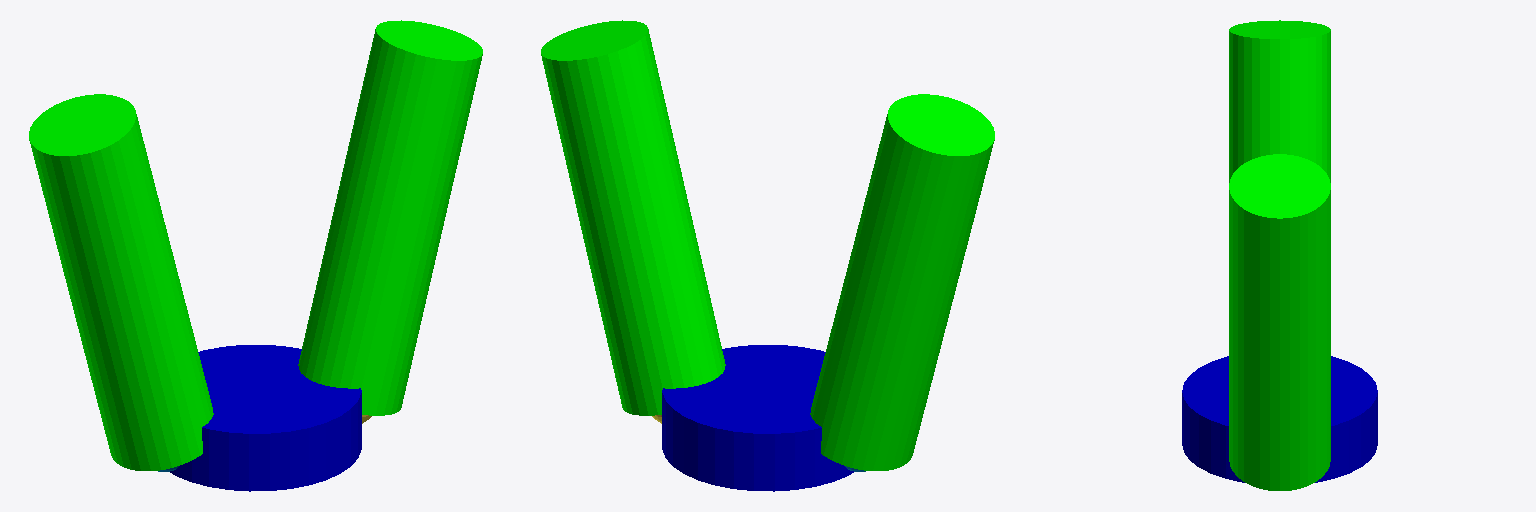
URDF robot description (gripper_2f_1j):
<?xml version='1.0' encoding='UTF-8'?>
<robot name="gripper_2f_1j">
  <link name="palm">
    <inertial>
      <origin xyz="0.0 0.0 0.0" rpy="0.0 -0.0 0.0"/>
      <mass value="1.0"/>
      <inertia ixx="1.0" ixy="0.0" ixz="0.0" iyy="1.0" iyz="0.0" izz="1.0"/>
    </inertial>
    <visual>
      <geometry>
        <cylinder radius="0.05" length="0.03"/>
      </geometry>
      <material name="blue"/>
      <origin xyz="0.0 0.0 0.0" rpy="0.0 -0.0 0.0"/>
    </visual>
    <collision>
      <geometry>
        <cylinder radius="0.05" length="0.03"/>
      </geometry>
      <origin xyz="0.0 0.0 0.0" rpy="0.0 0.0 0.0"/>
    </collision>
  </link>
  <link name="f11">
    <inertial>
      <origin xyz="0.0 0.0 0.0" rpy="0.0 -0.0 0.0"/>
      <mass value="1.0"/>
      <inertia ixx="1.0" ixy="0.0" ixz="0.0" iyy="1.0" iyz="0.0" izz="1.0"/>
    </inertial>
    <visual>
      <geometry>
        <cylinder radius="0.026050772308990142" length="0.1801620355049877"/>
      </geometry>
      <material name="green"/>
      <origin xyz="0.0 0.0 0.09008101775249384" rpy="0.0 -0.0 0.0"/>
    </visual>
    <collision>
      <geometry>
        <cylinder radius="0.026050772308990142" length="0.1801620355049877"/>
      </geometry>
      <origin xyz="0.0 0.0 0.05" rpy="0.0 0.0 0.0"/>
    </collision>
  </link>
  <link name="f21">
    <inertial>
      <origin xyz="0.0 0.0 0.0" rpy="0.0 -0.0 0.0"/>
      <mass value="1.0"/>
      <inertia ixx="1.0" ixy="0.0" ixz="0.0" iyy="1.0" iyz="0.0" izz="1.0"/>
    </inertial>
    <visual>
      <geometry>
        <cylinder radius="0.026050772308990142" length="0.1801620355049877"/>
      </geometry>
      <material name="green"/>
      <origin xyz="0.0 0.0 0.09008101775249384" rpy="0.0 -0.0 0.0"/>
    </visual>
    <collision>
      <geometry>
        <cylinder radius="0.026050772308990142" length="0.1801620355049877"/>
      </geometry>
      <origin xyz="0.0 0.0 0.05" rpy="0.0 0.0 0.0"/>
    </collision>
  </link>
  <link name="f11_base">
    <inertial>
      <origin xyz="0.0 0.0 0.0" rpy="0.0 -0.0 0.0"/>
      <mass value="1.0"/>
      <inertia ixx="1.0" ixy="0.0" ixz="0.0" iyy="1.0" iyz="0.0" izz="1.0"/>
    </inertial>
    <visual>
      <geometry>
        <sphere radius="0.015"/>
      </geometry>
      <origin xyz="0.0 0.0 0.0" rpy="0.0 -0.0 0.0"/>
    </visual>
  </link>
  <link name="f21_base">
    <inertial>
      <origin xyz="0.0 0.0 0.0" rpy="0.0 -0.0 0.0"/>
      <mass value="1.0"/>
      <inertia ixx="1.0" ixy="0.0" ixz="0.0" iyy="1.0" iyz="0.0" izz="1.0"/>
    </inertial>
    <visual>
      <geometry>
        <sphere radius="0.015"/>
      </geometry>
      <origin xyz="0.0 0.0 0.0" rpy="0.0 -0.0 0.0"/>
    </visual>
  </link>
  <joint name="f11_joint" type="revolute">
    <dynamics damping="100.0" friction="1.0"/>
    <limit effort="30.0" velocity="2.0" lower="-0.6" upper="0.25"/>
    <parent link="f11_base"/>
    <child link="f11"/>
    <axis xyz="0. 1. 0."/>
    <origin xyz="0.0 0.0 0.0" rpy="0.0 0.25 0.0"/>
  </joint>
  <joint name="f21_joint" type="revolute">
    <dynamics damping="100.0" friction="1.0"/>
    <limit effort="30.0" velocity="2.0" lower="-0.6" upper="0.25"/>
    <parent link="f21_base"/>
    <child link="f21"/>
    <axis xyz=" 0. -1.  0."/>
    <origin xyz="0.0 0.0 0.0" rpy="0.0 -0.25 0.0"/>
  </joint>
  <joint name="f11_base_joint" type="fixed">
    <parent link="palm"/>
    <child link="f11_base"/>
    <axis xyz="1. 0. 0."/>
    <origin xyz="0.05 0.0 0.0" rpy="0.0 0.0 0.0"/>
  </joint>
  <joint name="f21_base_joint" type="fixed">
    <parent link="palm"/>
    <child link="f21_base"/>
    <axis xyz="1. 0. 0."/>
    <origin xyz="-0.05 -0.0 0.0" rpy="0.0 0.0 0.0"/>
  </joint>
  <material name="blue">
    <color rgba="0.  0.  0.8 1. "/>
  </material>
  <material name="green">
    <color rgba="0. 1. 0. 1."/>
  </material>
</robot>

--- What the picture shows (computed from the rendered views, not written in the file) ---
Views: 3 orthographic renders of the robot side by side, from view 1: azimuth 30°, elevation 25°; view 2: azimuth 150°, elevation 25°; view 3: azimuth 270°, elevation 25°.
Robot: gripper_2f_1j — 5 links, 4 joints (2 revolute, 2 fixed); root link palm; default pose: all joints at 0.
Links seen in each view (by area): view 1: f11, f21, palm; view 2: f11, f21, palm; view 3: f11, f21, palm.
Boxes of the visible links, bbox=[...] form: f11: bbox=[298, 20, 482, 415]; f21: bbox=[29, 94, 213, 470]; palm: bbox=[170, 345, 361, 491]; f11: bbox=[541, 20, 725, 415]; f21: bbox=[810, 94, 994, 470]; palm: bbox=[662, 345, 853, 491]; f11: bbox=[1229, 154, 1330, 490]; f21: bbox=[1229, 20, 1330, 182]; palm: bbox=[1182, 356, 1377, 482].
Bounding box of the posed robot: 0.2396 × 0.1 × 0.196 m (x, y, z).
Geometry: primitives only (box / cylinder / sphere), no mesh files.